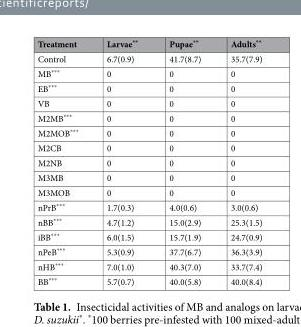table: (36, 37, 261, 287)
table column: (152, 37, 215, 287), (91, 37, 152, 287), (36, 37, 91, 287), (215, 37, 261, 287)
table column header: (36, 37, 261, 50)
table row: (36, 50, 261, 65), (36, 65, 261, 80), (36, 80, 261, 95), (36, 95, 261, 110), (36, 110, 261, 125), (36, 125, 261, 140), (36, 154, 261, 169), (36, 169, 261, 184), (36, 184, 261, 199), (36, 199, 261, 214), (36, 214, 261, 229), (36, 243, 261, 258), (36, 258, 261, 273), (36, 140, 261, 154), (36, 229, 261, 243), (36, 273, 261, 287), (36, 37, 261, 50)
